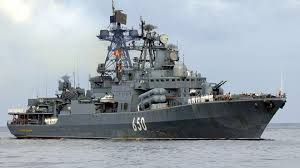tau_muctieu: (15, 17, 282, 147)
